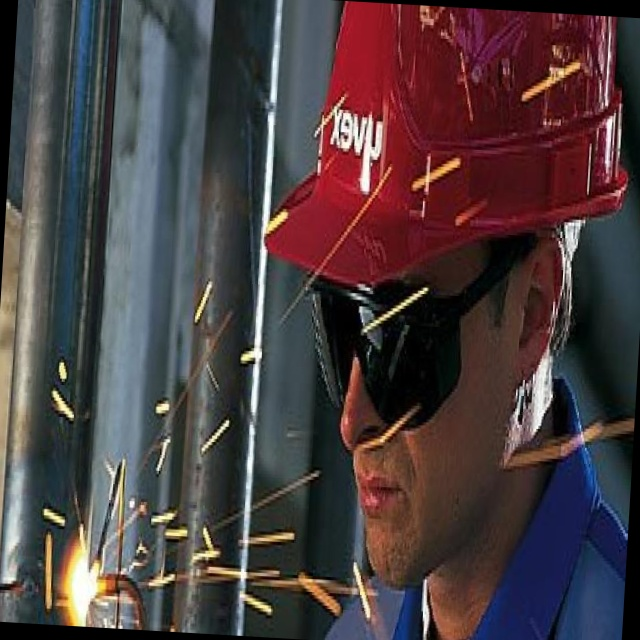goggles: (175, 262, 339, 429)
helmet: (26, 0, 334, 214)
